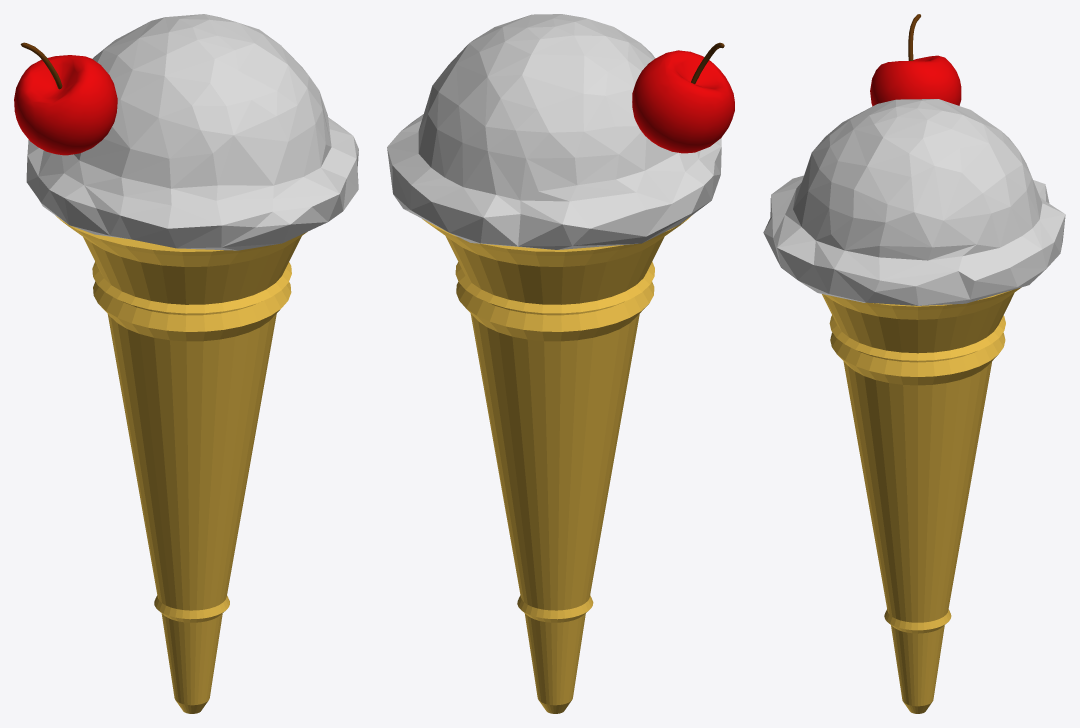
Rendered from ice.glb.
3 renders of one model, left to right at view 1: azimuth 30°, elevation 25°; view 2: azimuth 150°, elevation 25°; view 3: azimuth 270°, elevation 25°, orthographic. The views are drawn at different scales.
Parts seen in each view (by area): view 1: ice, 円柱.001, 球.001; view 2: ice, 円柱.001, 球.001; view 3: ice, 円柱.001, 球.001.
Boxes of the visible parts, x1,y1,x2,y2 form: ice: [26, 14, 358, 250]; 円柱.001: [55, 215, 306, 713]; 球.001: [14, 55, 117, 155]; ice: [387, 14, 721, 249]; 円柱.001: [422, 216, 690, 713]; 球.001: [632, 50, 734, 153]; ice: [763, 99, 1065, 305]; 円柱.001: [822, 287, 1021, 713]; 球.001: [870, 55, 961, 106].
Size of the model in its own units: 1.83 by 3.91 by 1.72.
